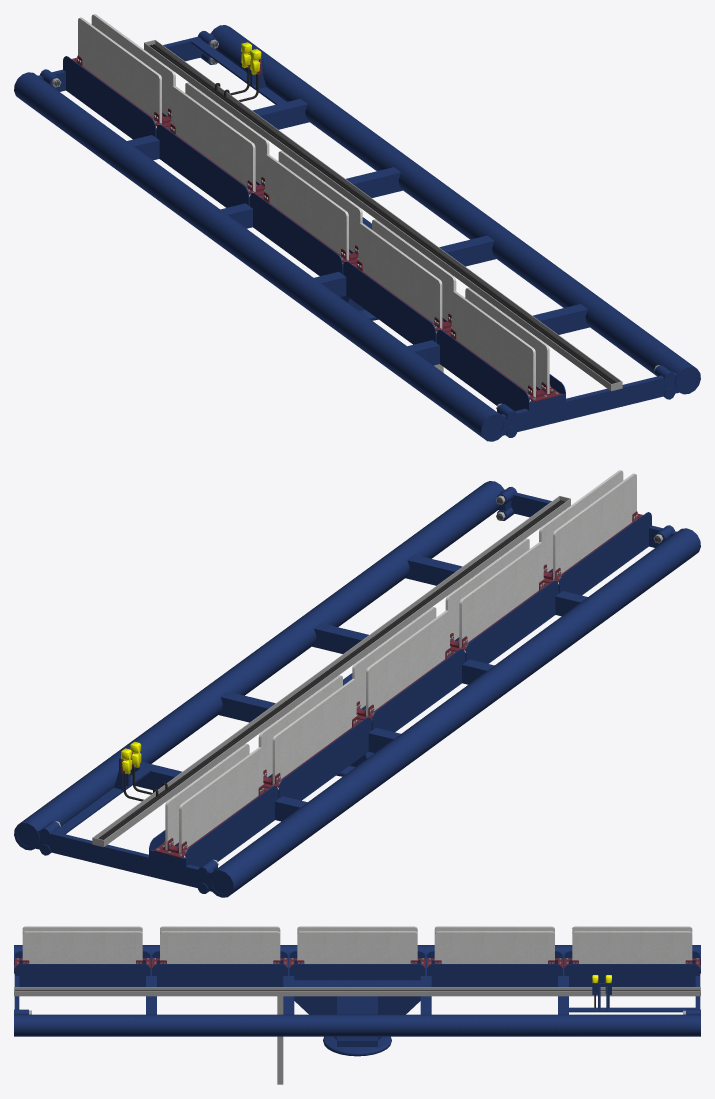
Rendered from Trim Section (Fixed with end sensor).dae.
3 views of the same model, one above another, from view 1: azimuth 30°, elevation 25°; view 2: azimuth 150°, elevation 25°; view 3: azimuth 270°, elevation 25° (orthographic). The views are drawn at different scales.
Parts seen in each view (by area): view 1: Mid_Detail (×17), Track (×9), High_Detail; view 2: Mid_Detail (×17), Track (×9), High_Detail; view 3: Mid_Detail (×17), Track (×7), High_Detail.
Boxes of the visible parts, left/top/right/bottom form: Mid_Detail (×17): left=63, top=14, right=622, bottom=410; Track (×9): left=14, top=25, right=700, bottom=441; High_Detail: left=191, top=39, right=286, bottom=104; Mid_Detail (×17): left=92, top=470, right=651, bottom=866; Track (×9): left=14, top=481, right=700, bottom=897; High_Detail: left=54, top=757, right=149, bottom=834; Mid_Detail (×17): left=14, top=926, right=700, bottom=1084; Track (×7): left=14, top=945, right=700, bottom=1056; High_Detail: left=569, top=983, right=695, bottom=1012.
Bounding box in the file's own units: 53.48 × 197 × 40.52.
9 materials, 4 textured.
